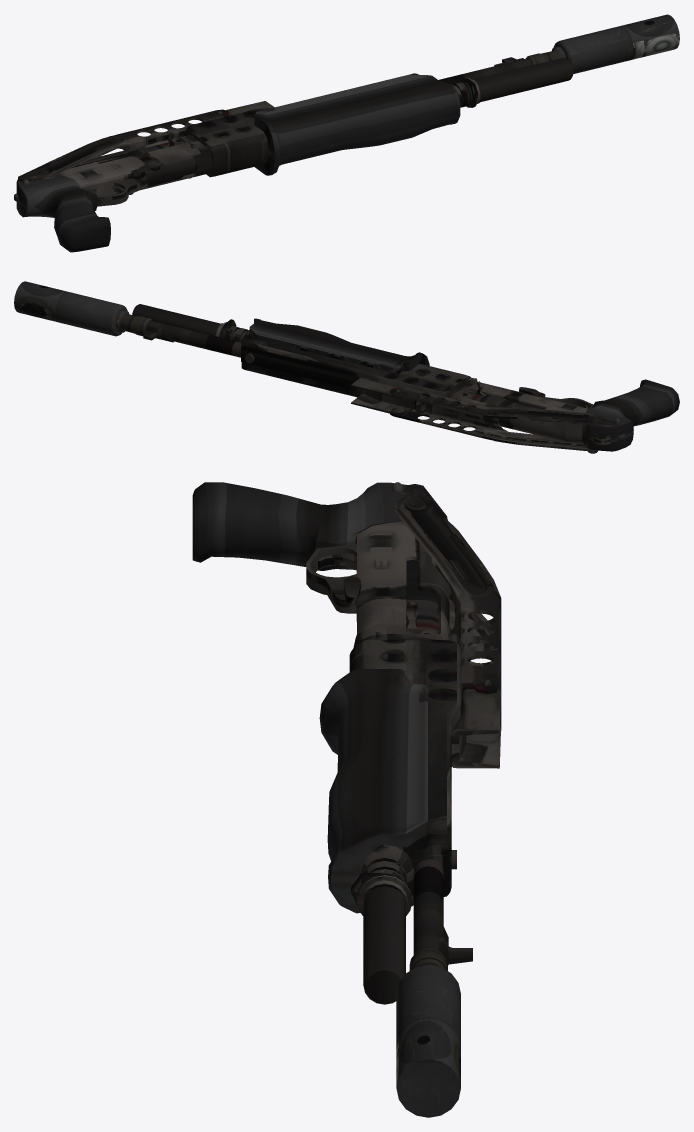
Rendered from t5_weapon_spas_viewmodel.glb.
3 renders of one model, top to bottom at view 1: azimuth 30°, elevation 25°; view 2: azimuth 150°, elevation 25°; view 3: azimuth 270°, elevation 25°, orthographic. The views are drawn at different scales.
Parts seen in each view (by area): view 1: t5_weapon_spas_viewmodel; view 2: t5_weapon_spas_viewmodel; view 3: t5_weapon_spas_viewmodel.
Part boxes in pixels (box(x1,y1,x2,y2)): t5_weapon_spas_viewmodel: box(14, 14, 679, 252); t5_weapon_spas_viewmodel: box(14, 281, 679, 453); t5_weapon_spas_viewmodel: box(192, 482, 501, 1117).
Bounding box in the file's own units: 1.01 × 0.0747 × 0.2239.
Materials: 3 (3 with a texture image).
